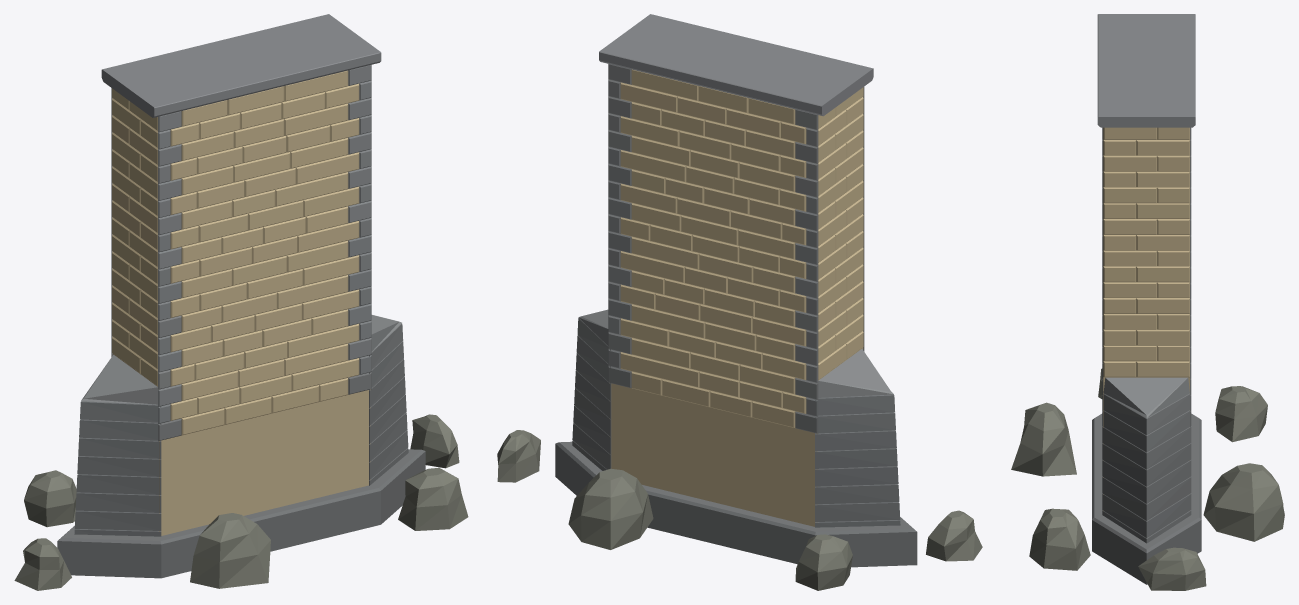
The picture shows the model from 3 angles, left to right: view 1: azimuth 30°, elevation 25°; view 2: azimuth 150°, elevation 25°; view 3: azimuth 270°, elevation 25°; orthographic projection. The views are drawn at different scales.
Visible parts, largest first — view 1: Mesh_PierLimestone, Mesh_PierGranite, Mesh_PierRock; view 2: Mesh_PierLimestone, Mesh_PierGranite, Mesh_PierRock; view 3: Mesh_PierGranite, Mesh_PierLimestone, Mesh_PierRock.
Boxes of the visible parts, x1,y1,x2,y2 form: Mesh_PierLimestone: [112, 70, 370, 535]; Mesh_PierGranite: [57, 14, 425, 578]; Mesh_PierRock: [14, 414, 468, 590]; Mesh_PierLimestone: [609, 69, 863, 526]; Mesh_PierGranite: [555, 14, 917, 567]; Mesh_PierRock: [497, 430, 982, 590]; Mesh_PierGranite: [1092, 14, 1201, 584]; Mesh_PierLimestone: [1103, 127, 1189, 510]; Mesh_PierRock: [1011, 368, 1284, 590].
Bounding box in the file's own units: 16.49 × 16.2 × 9.22.
